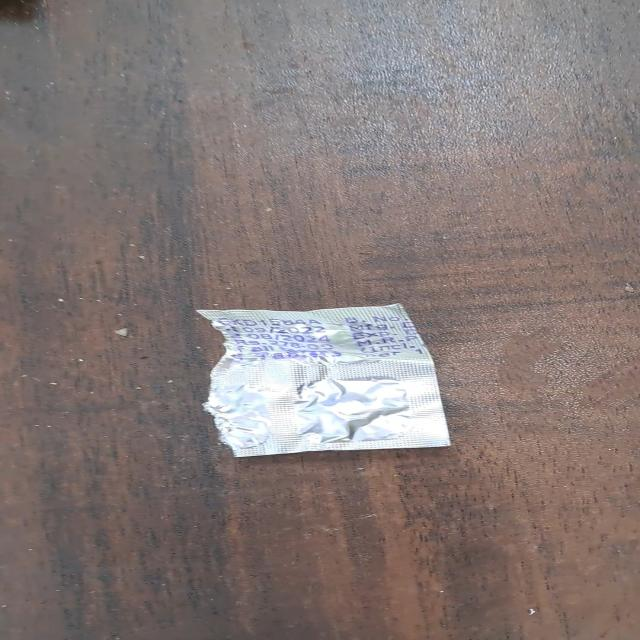Anorganik: (184, 292, 474, 475)
